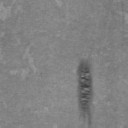oxide scale of plate system: (75, 56, 96, 126)
